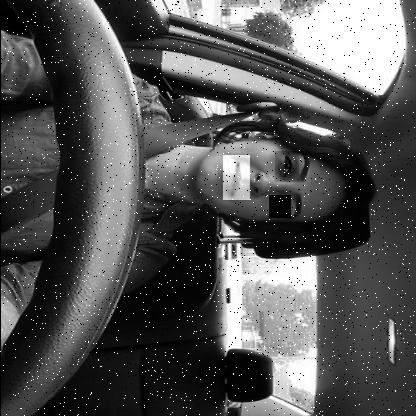seatbelt: (0, 107, 382, 240)
